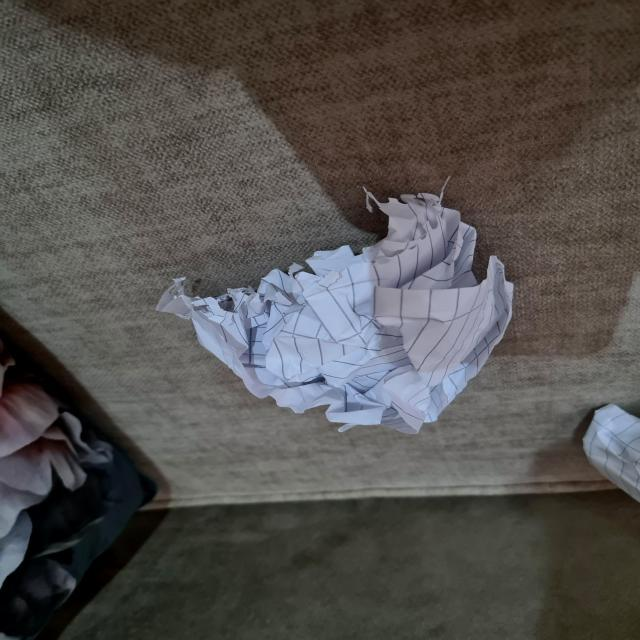Paper: (176, 219, 514, 438)
